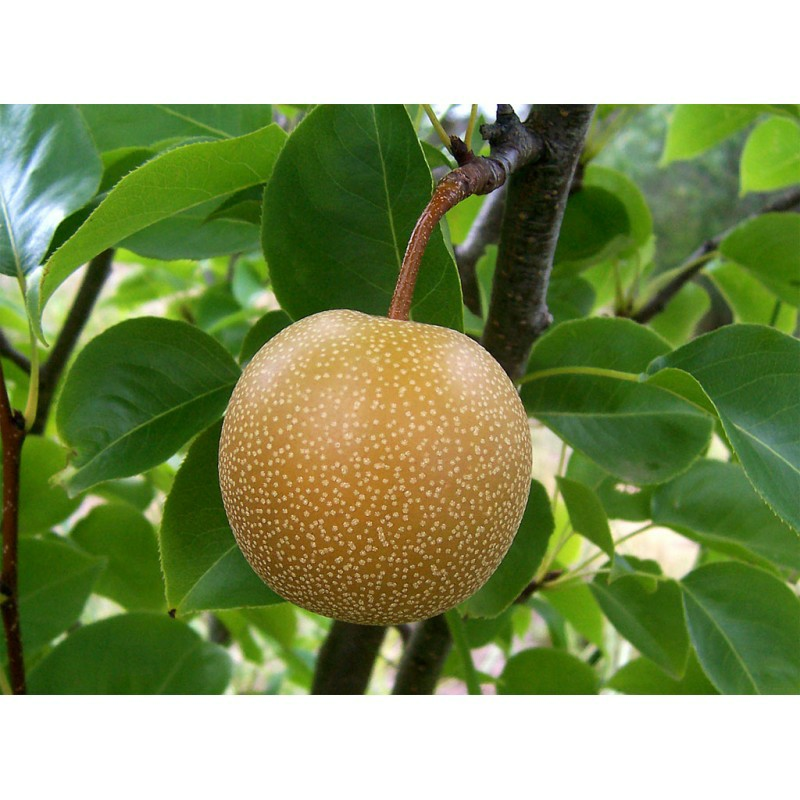pear: (218, 308, 534, 626)
